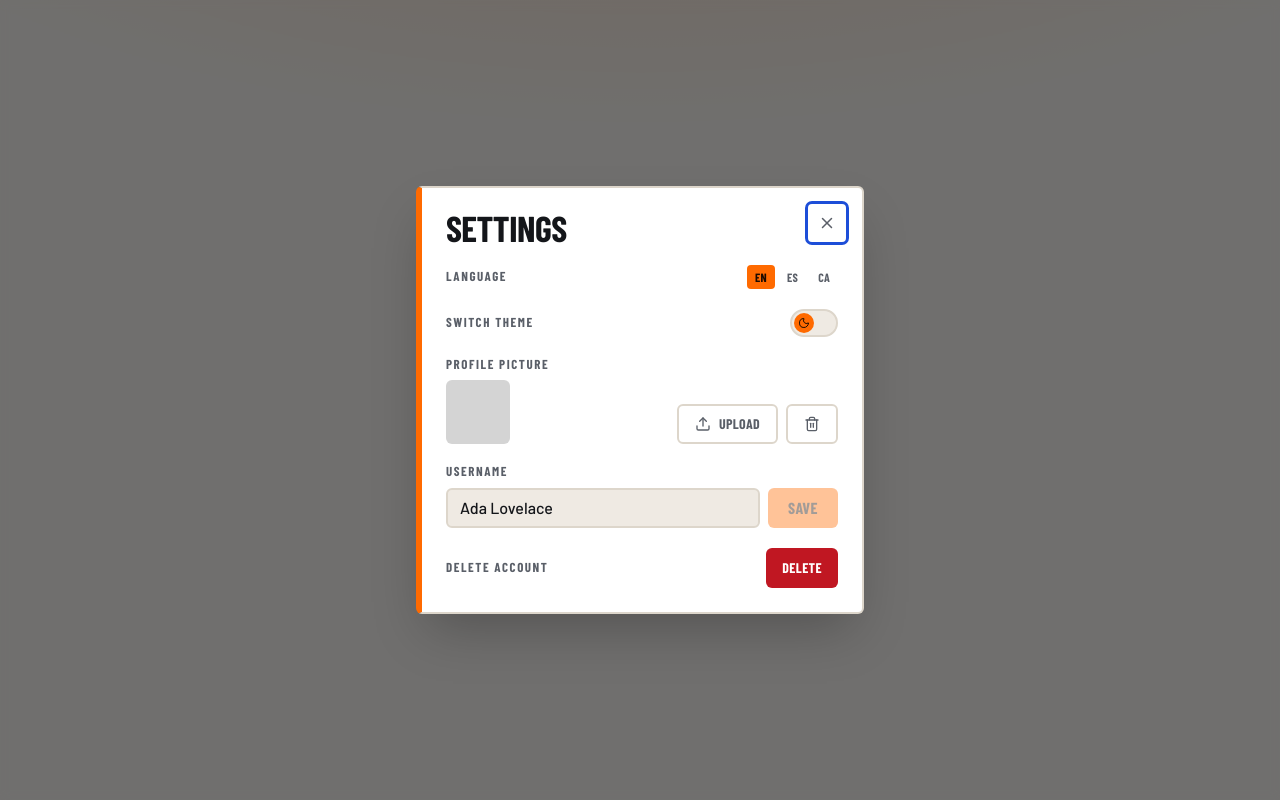
Test: SettingsModal picture › clears the picture, and falls back to the monogram
The image size is (1280, 800).
Click the button named "Remove picture": (812, 424) top-left (786, 404), bottom-right (838, 444)
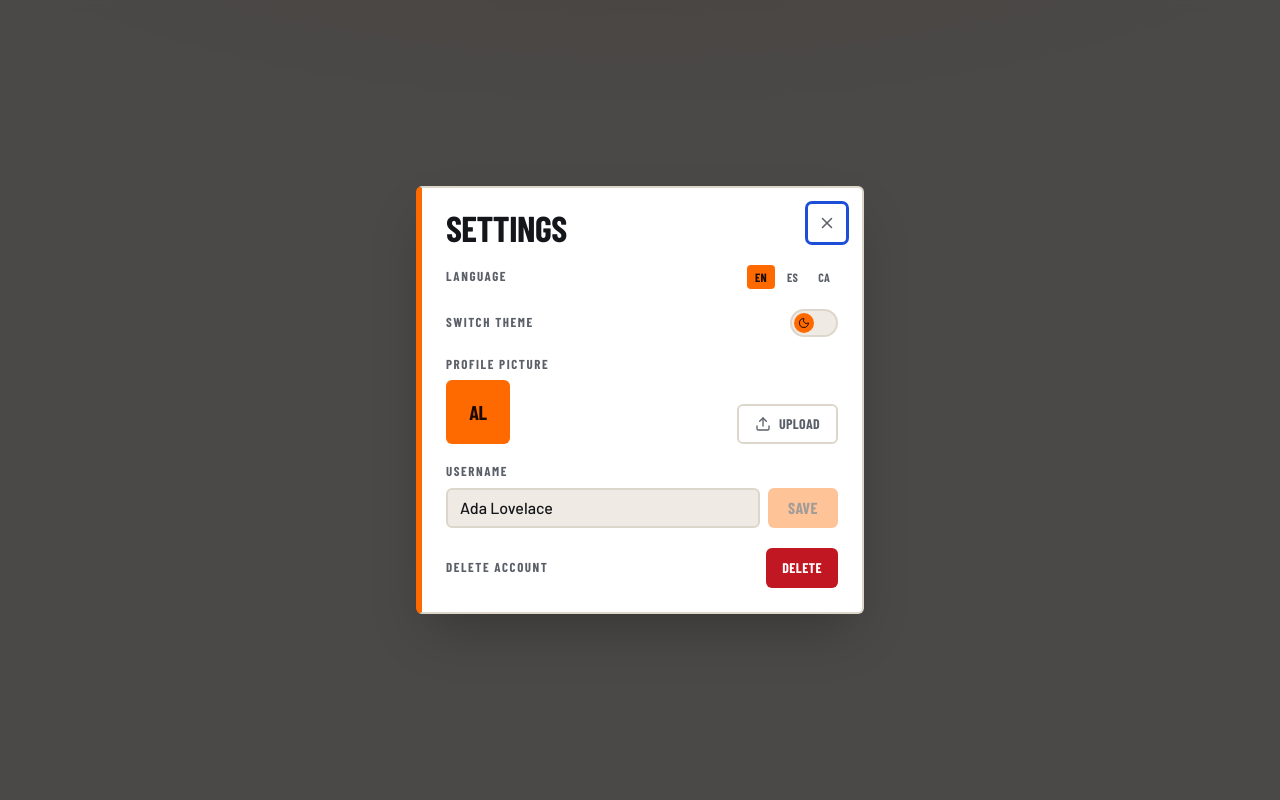
expect the picture is gone: met
expect the text "AL" is shown: met, box top-left (446, 380), bottom-right (510, 444)
